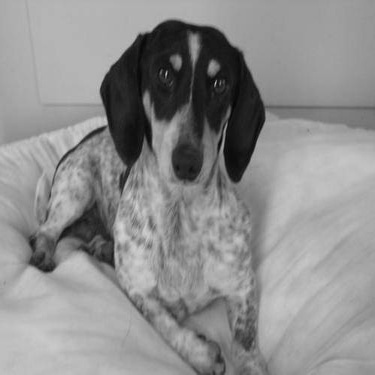dog: (20, 16, 276, 373)
